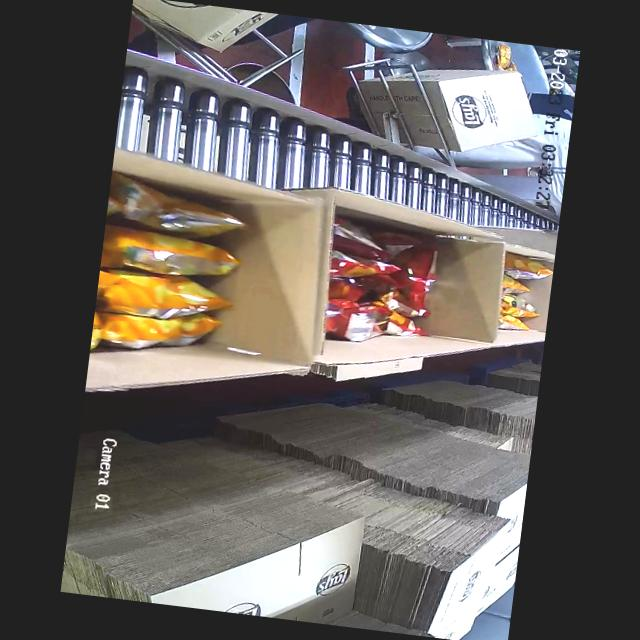cheese: (90, 187, 259, 366), (486, 248, 554, 344)
masala: (330, 222, 445, 351)
